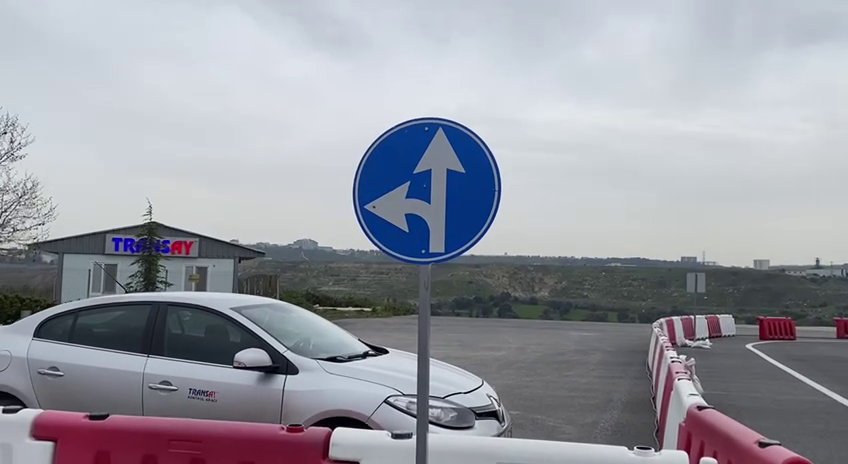forwardAndLeft: (346, 114, 508, 267)
